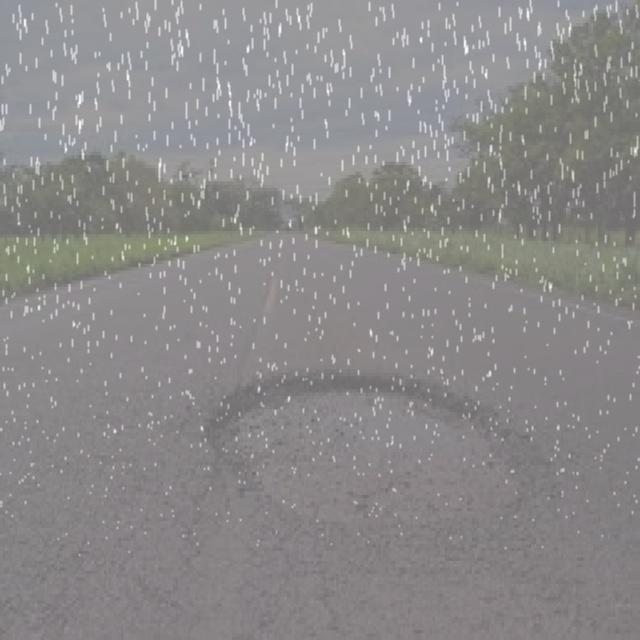Pothole: (191, 357, 565, 580)
